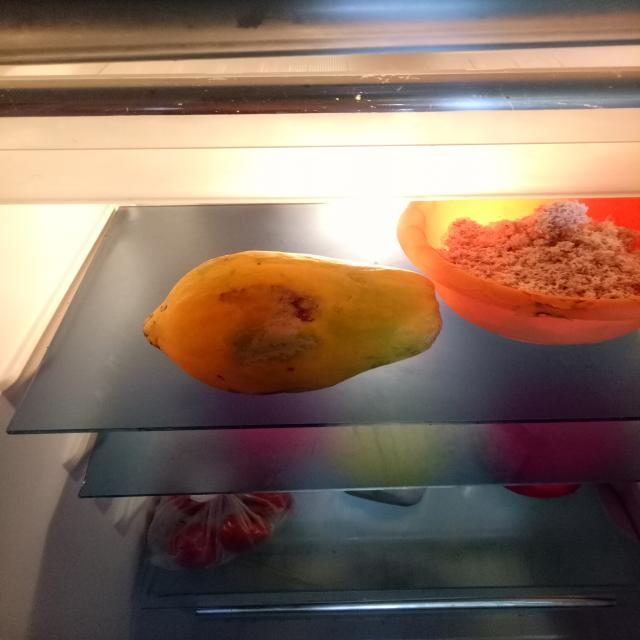Pepaya rippen: (145, 249, 448, 402)
